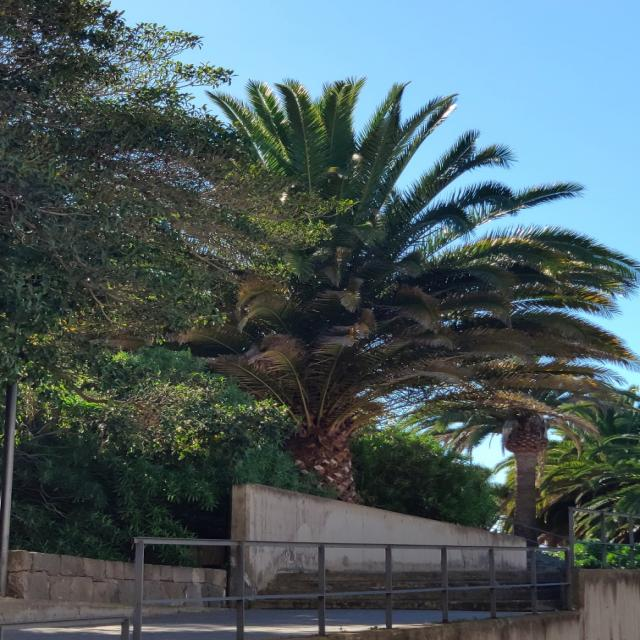Palm-Trees: (49, 75, 623, 492)
